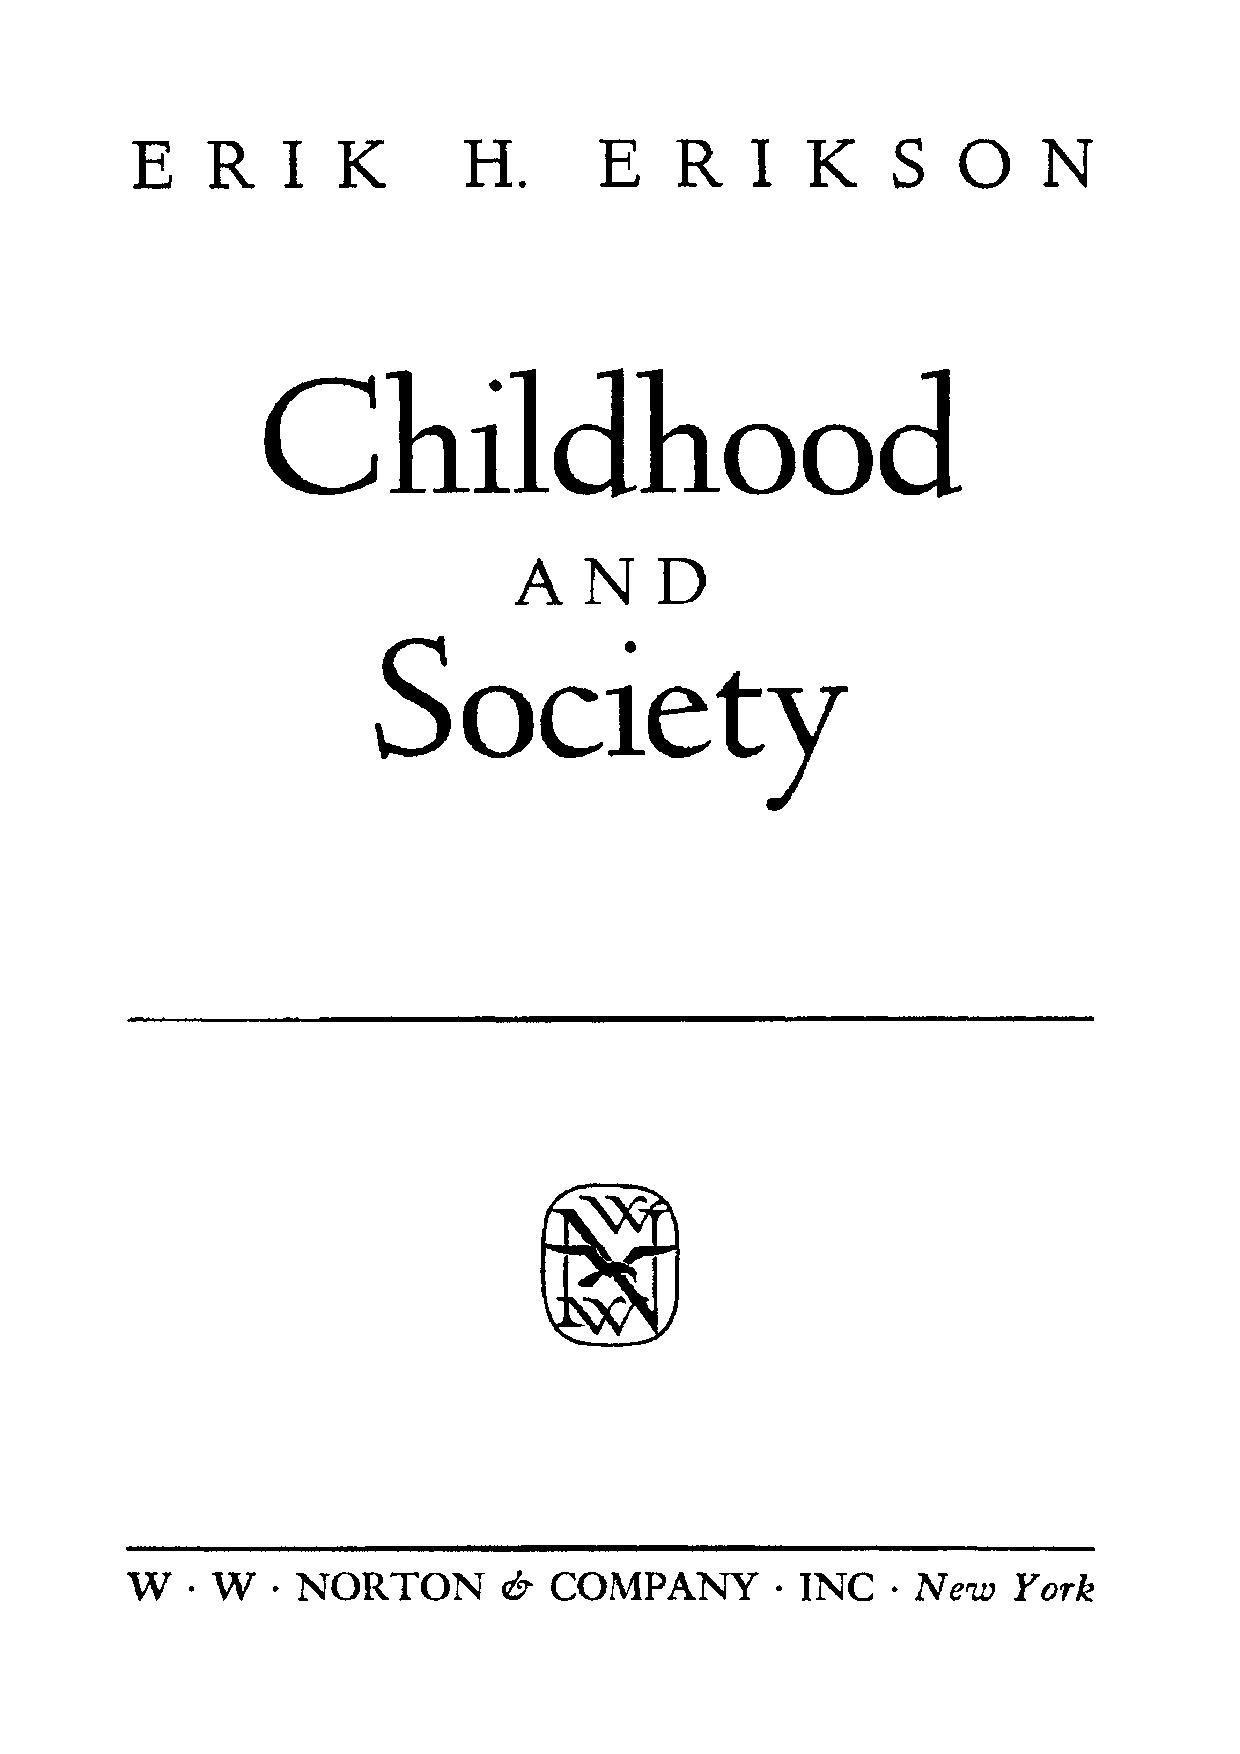author: (126, 136, 1095, 193)
title: (260, 362, 965, 813)
